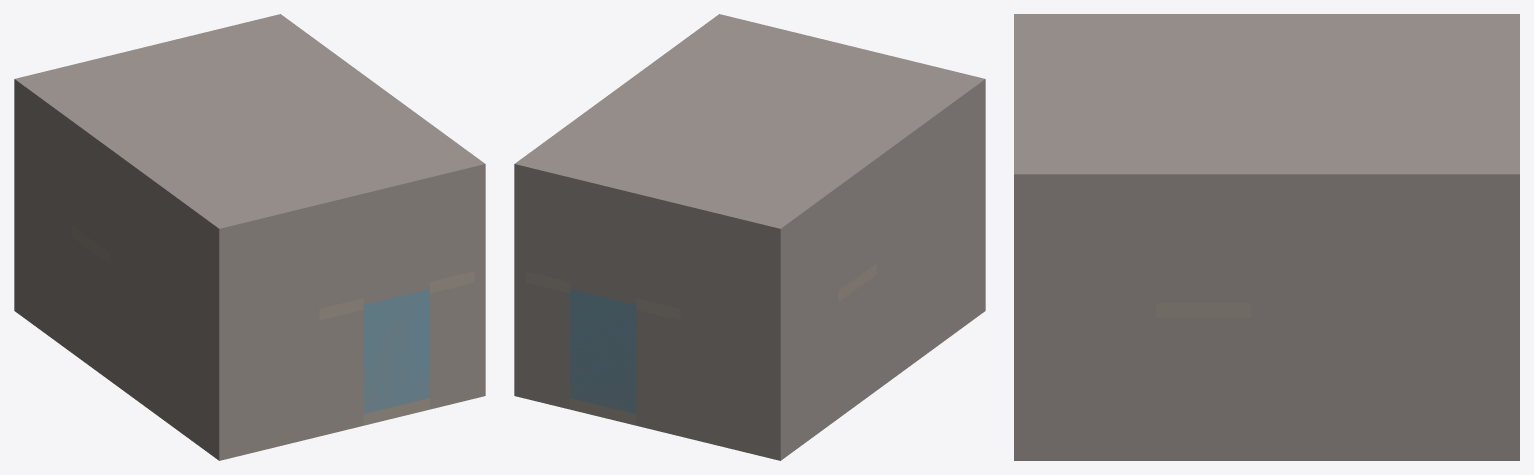
The model's file is creek-cavern.glb.
3 views of the same model, side by side, from view 1: azimuth 30°, elevation 25°; view 2: azimuth 150°, elevation 25°; view 3: azimuth 270°, elevation 25° (orthographic). The views are drawn at different scales.
Parts seen in each view (by area): view 1: rock_40, rock_7, plug_creek_south, rock_30, rock_14, water_3, rock_20, rock_9, rock_12, rock_8, rock_10, plug_west (+25 smaller); view 2: rock_40, rock_7, rock_1, plug_creek_north, rock_30, rock_24, water_1, rock_13, rock_14, rock_20, plug_west, rock_36 (+16 smaller); view 3: rock_40, rock_2, rock_25, rock_11, rock_34, rock_23, plug_east, rock_39, cave-floor_15.
Boxes of the visible parts, x1,y1,x2,y2 form: rock_40: (14,14,485,240); rock_7: (110,254,230,460); plug_creek_south: (319,190,474,308); rock_30: (110,161,230,333); rock_14: (430,283,474,409); water_3: (363,294,407,413); rock_20: (72,237,110,380); rock_9: (252,320,274,452); rock_12: (297,309,319,441); rock_8: (230,325,252,458); rock_10: (274,314,296,447); plug_west: (72,156,110,253); rock_40: (514,14,985,240); rock_7: (876,183,985,390); rock_1: (680,309,786,460); plug_creek_north: (525,190,680,308); rock_30: (876,90,985,262); rock_24: (680,216,786,333); water_1: (570,289,636,413); rock_13: (636,310,680,436); rock_14: (525,283,569,409); rock_20: (838,275,876,418); plug_west: (838,193,876,290); rock_36: (525,178,680,227); rock_40: (1014,14,1519,188); rock_2: (1251,303,1519,460); rock_25: (1251,188,1519,303); rock_11: (1014,303,1156,460); rock_34: (1014,188,1156,303); rock_23: (1156,317,1251,460); plug_east: (1156,217,1251,303); rock_39: (1156,188,1251,217); cave-floor_15: (1156,303,1251,317).
Size of the model in its own units: 12 by 10 by 16.
